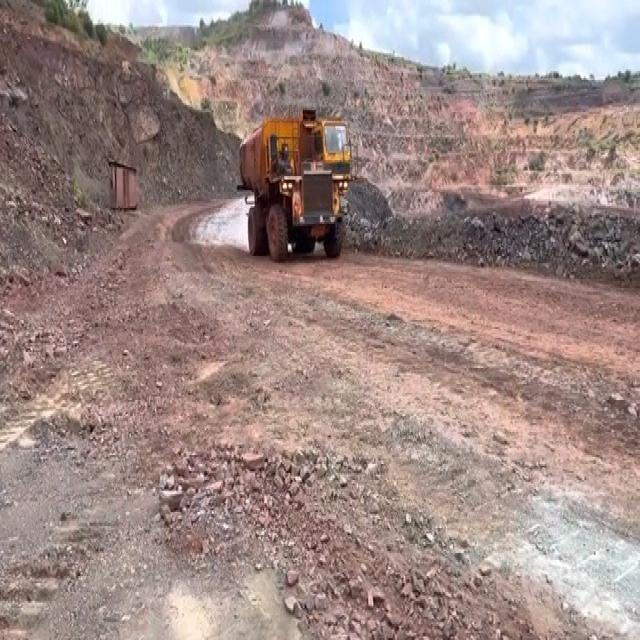dump_truck: (235, 106, 352, 258)
